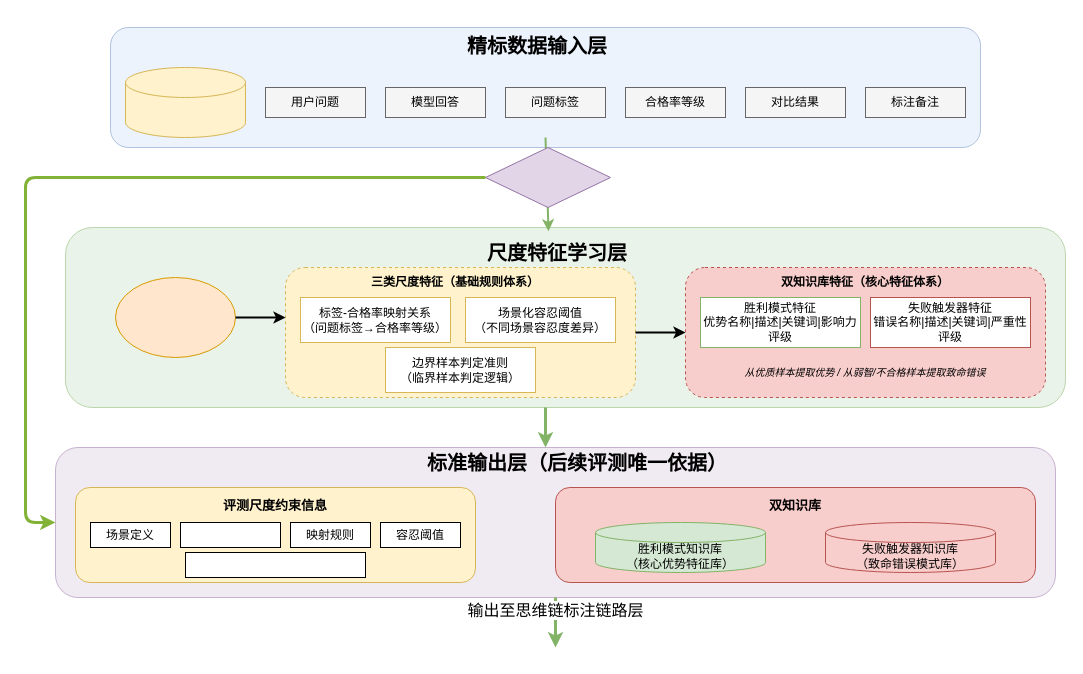
This 1083x674 diagram has some shape labels left out. The centre of each missing label's shape, as x and y in pixels:
大语言模型 + 规则推理算法: point (175, 317)
尺度核心逻辑: point (547, 177)
边界判定准则: point (275, 565)
问题标签体系: point (230, 535)
高质量精标数据集: point (185, 102)
